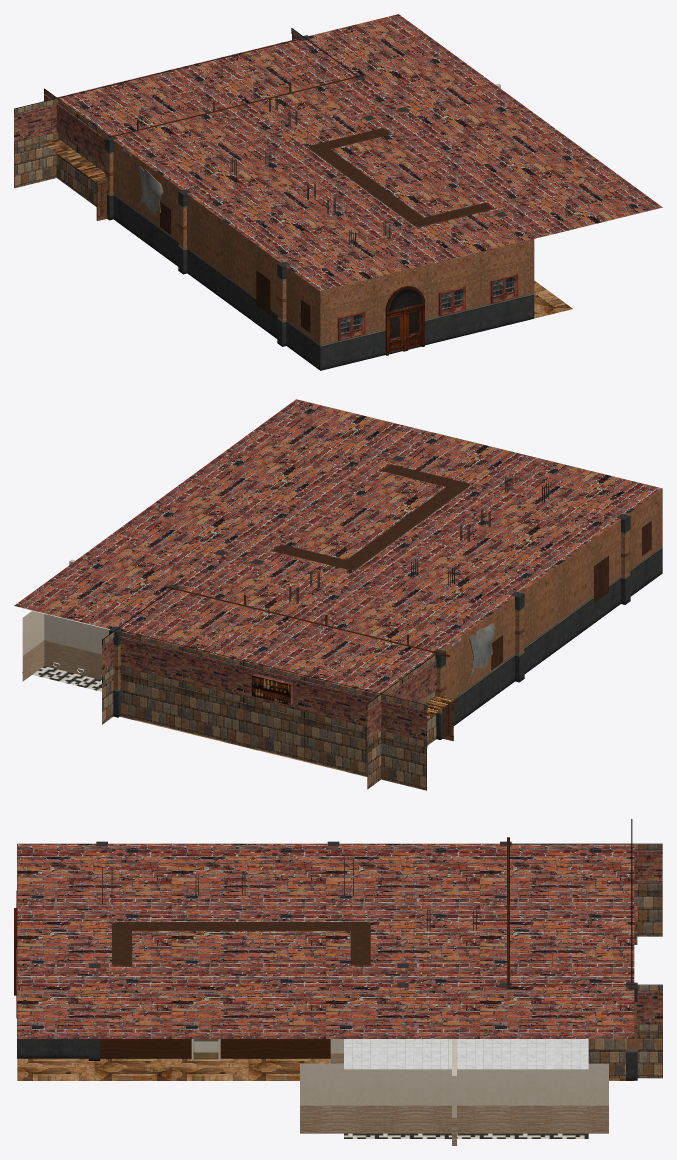
File: pub.glb
3 renders of one model, top to bottom at view 1: azimuth 30°, elevation 25°; view 2: azimuth 150°, elevation 25°; view 3: azimuth 270°, elevation 25°, orthographic. The views are drawn at different scales.
Parts seen in each view (by area): view 1: Plane.056, Plane.043, Plane.044, Plane.070, Cube.033, Plane.047, Plane.071, Plane.009, Plane.073, Plane.072, Plane.052, Plane.066 (+5 smaller); view 2: Plane.056, Plane.070, Plane.043, Plane.100, Cube.033, Plane.072, Plane.073, Plane.098, Plane.068, Plane.066, Plane.085; view 3: Plane.056, Plane.097, Plane.100, Plane.101, Plane.070, Plane.009, Plane.025, Cube.033, Plane.031, Plane.098, Plane.068, Plane.038 (+1 smaller).
Part boxes in pixels (x1,y1,x2,y2): Plane.056: (56, 14, 662, 290); Plane.043: (113, 141, 320, 370); Plane.044: (320, 239, 534, 370); Plane.070: (14, 28, 324, 206); Cube.033: (308, 128, 493, 226); Plane.047: (385, 285, 424, 355); Plane.071: (42, 138, 106, 180); Plane.009: (324, 261, 572, 318); Plane.073: (277, 261, 290, 346); Plane.072: (178, 189, 191, 274); Plane.052: (337, 311, 365, 340); Plane.066: (104, 135, 117, 220); Plane.056: (14, 399, 662, 695); Plane.070: (102, 614, 437, 790); Plane.043: (442, 489, 662, 725); Plane.100: (22, 611, 109, 681); Cube.033: (273, 464, 469, 569); Plane.072: (510, 591, 524, 682); Plane.073: (616, 514, 630, 604); Plane.098: (22, 666, 101, 691); Plane.068: (109, 626, 122, 717); Plane.066: (432, 649, 445, 739); Plane.085: (594, 555, 608, 603); Plane.056: (17, 843, 634, 1038); Plane.097: (300, 1039, 451, 1133); Plane.100: (457, 1063, 608, 1133); Plane.101: (344, 1039, 588, 1069); Plane.070: (508, 819, 662, 1078); Plane.009: (17, 1058, 633, 1080); Plane.025: (94, 965, 399, 1058); Cube.033: (112, 922, 370, 965); Plane.031: (17, 966, 88, 1058); Plane.098: (344, 1133, 588, 1138); Plane.068: (626, 982, 637, 1080); Plane.038: (193, 1039, 218, 1058).
Size of the model in its own units: 21.49 by 4.8 by 25.24.
Materials: 5 (4 with a texture image).
